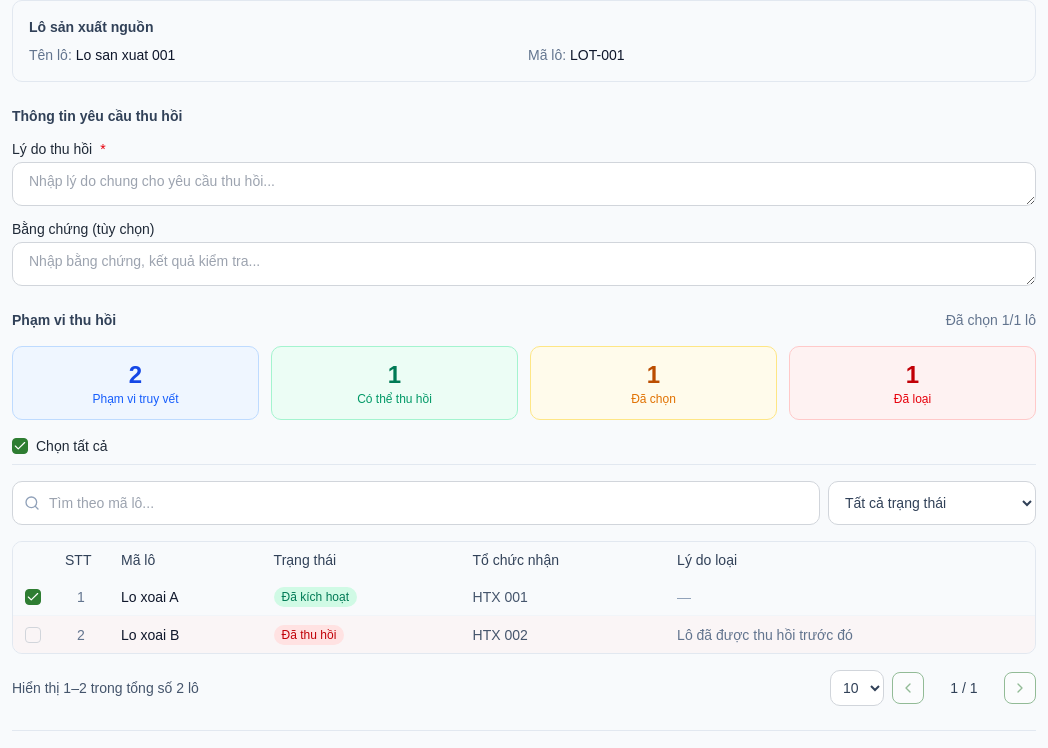
Test: BulkRecallRequestForm - bang Pham vi thu hoi › bo loc trang thai ket hop voi tim kiem; lo da thu hoi khong the chon
The image size is (1048, 748).
Select "Đã thu hồi" in the dropdown named "Lọc trạng thái" at (932, 503), box [828,481,1036,525]
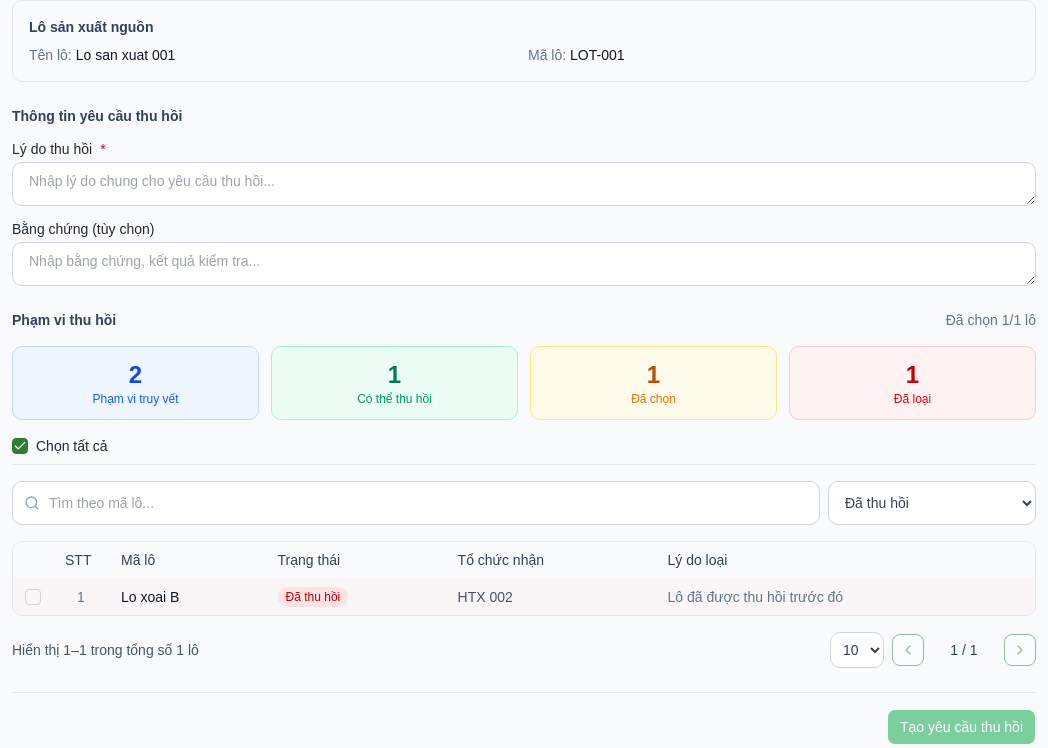
Expected: the text "Lo xoai B" is shown, [109,578,266,615]
Expected: the text "Lo xoai A" is gone
Select "Tất cả trạng thái" in the dropdown named "Lọc trạng thái" at (932, 503), box [828,481,1036,525]
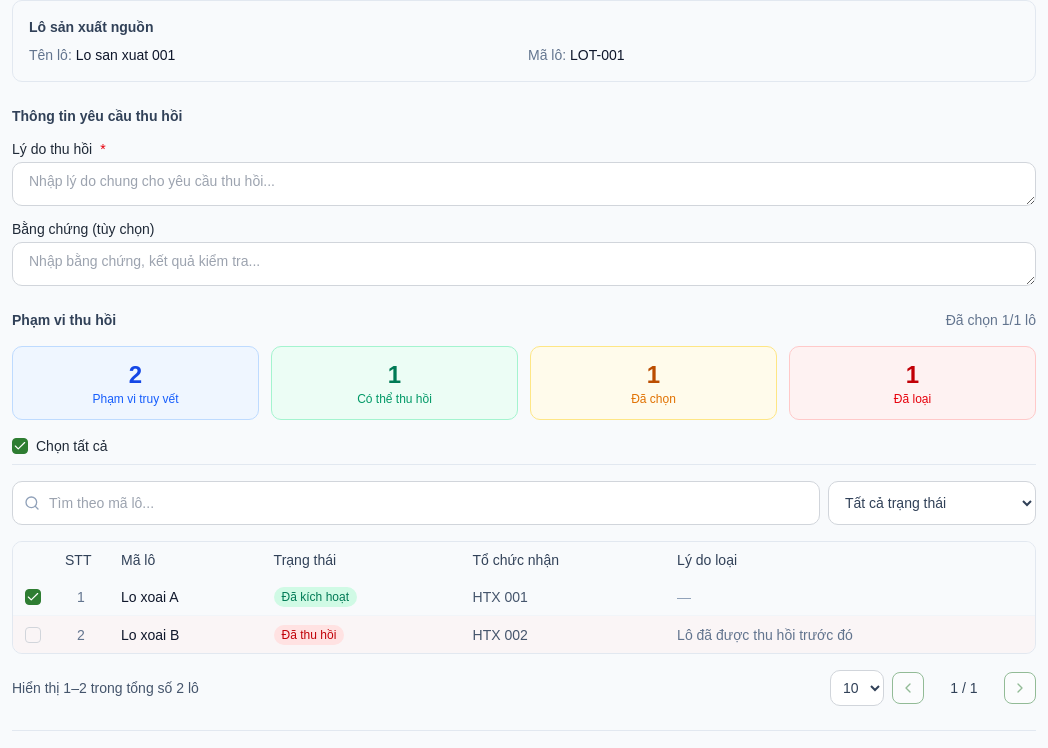
Type "xoai" into the field labelled "Tìm theo mã lô" at (416, 503), box [12,481,820,525]
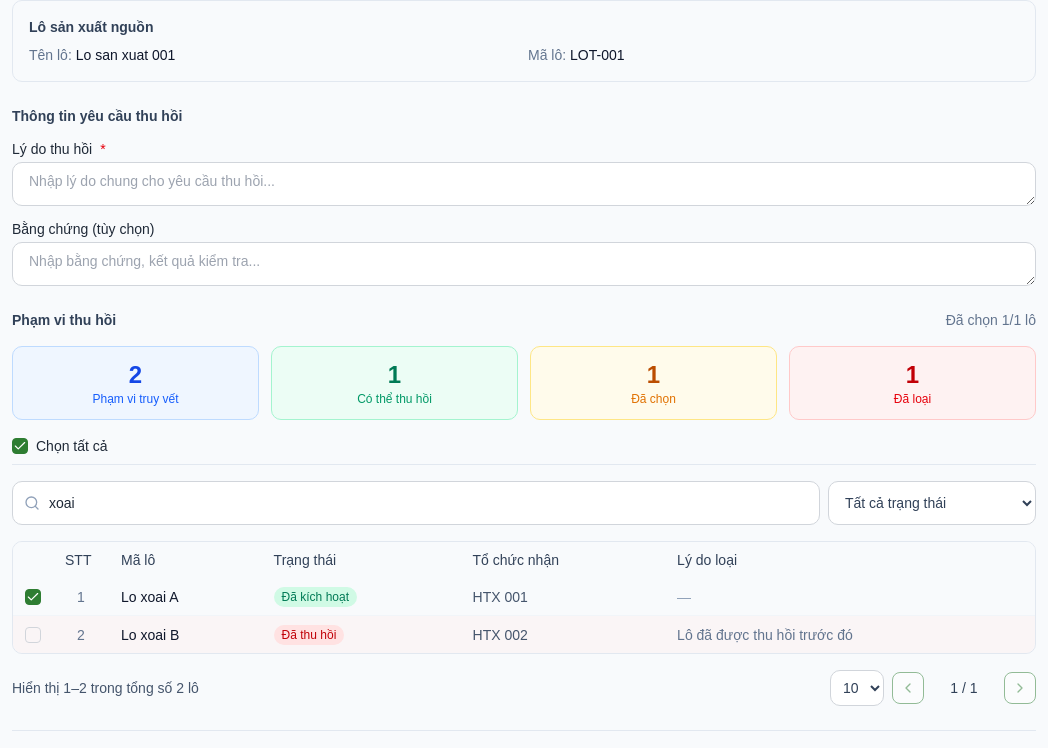
Select "Có thể thu hồi" in the dropdown named "Lọc trạng thái" at (932, 503), box [828,481,1036,525]
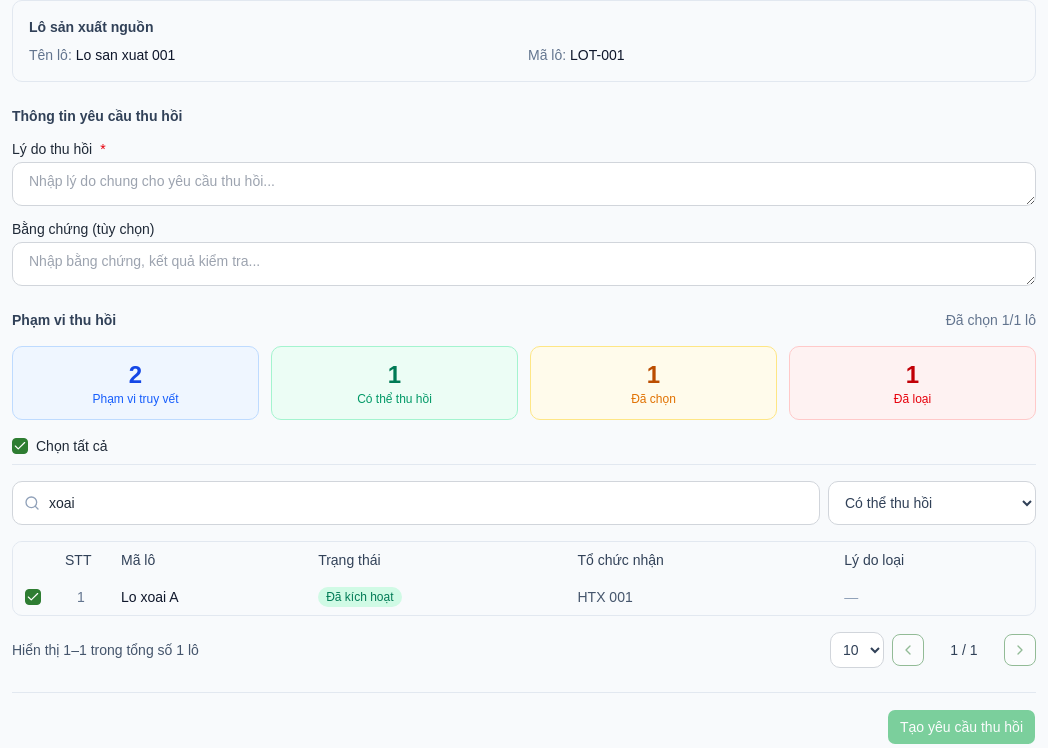
Expected: the text "Đã chọn 1/1 lô" is shown, [946,310,1036,330]
Expected: the text "Lo xoai A" is shown, [109,578,306,615]
Expected: the text "Lo xoai B" is gone
